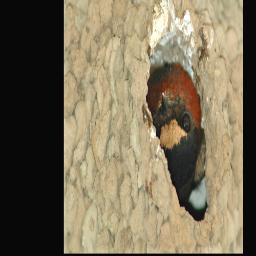Swallow: (146, 62, 203, 204)
